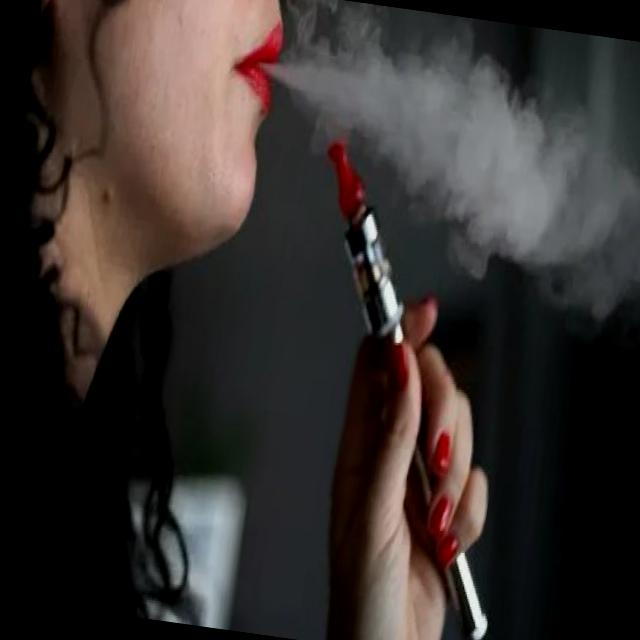cigarette: (257, 122, 553, 640)
